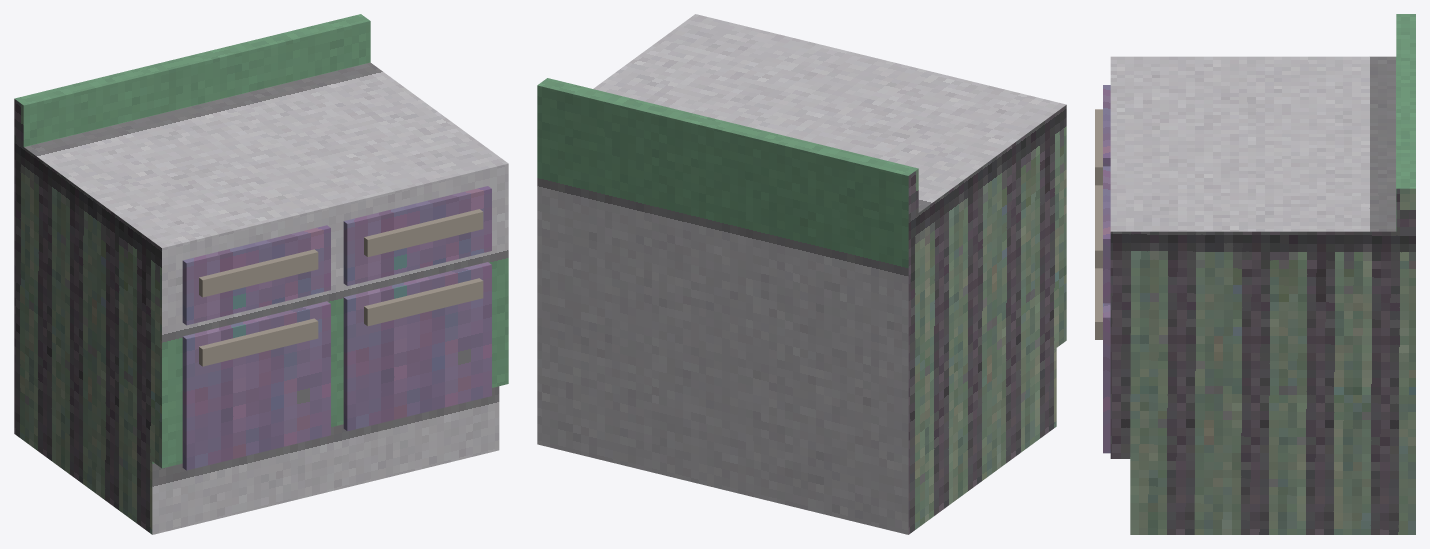
The model's file is Kitchen_Furniture.fbx.
3 views of the same model, side by side, from view 1: azimuth 30°, elevation 25°; view 2: azimuth 150°, elevation 25°; view 3: azimuth 270°, elevation 25° (orthographic). The views are drawn at different scales.
Visible parts, largest first — view 1: Kitchen_Furniture; view 2: Kitchen_Furniture; view 3: Kitchen_Furniture.
Part boxes in pixels (x1,y1,x2,y2): Kitchen_Furniture: [14, 14, 508, 534]; Kitchen_Furniture: [537, 14, 1066, 534]; Kitchen_Furniture: [1095, 14, 1415, 534].
Bounding box in the file's own units: 105 × 97 × 81.5.
